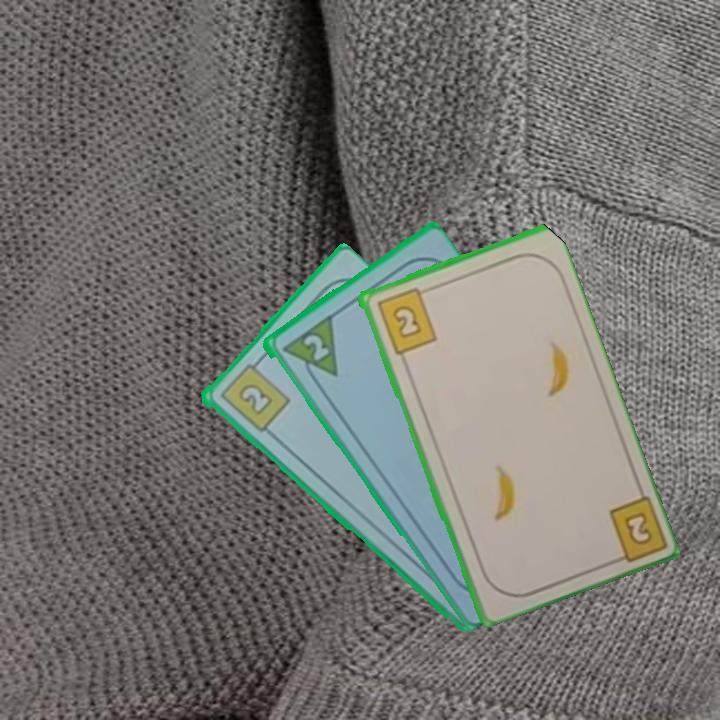2b: (215, 355, 292, 435), (604, 490, 667, 568), (373, 284, 439, 357)
2p: (277, 312, 341, 390)
